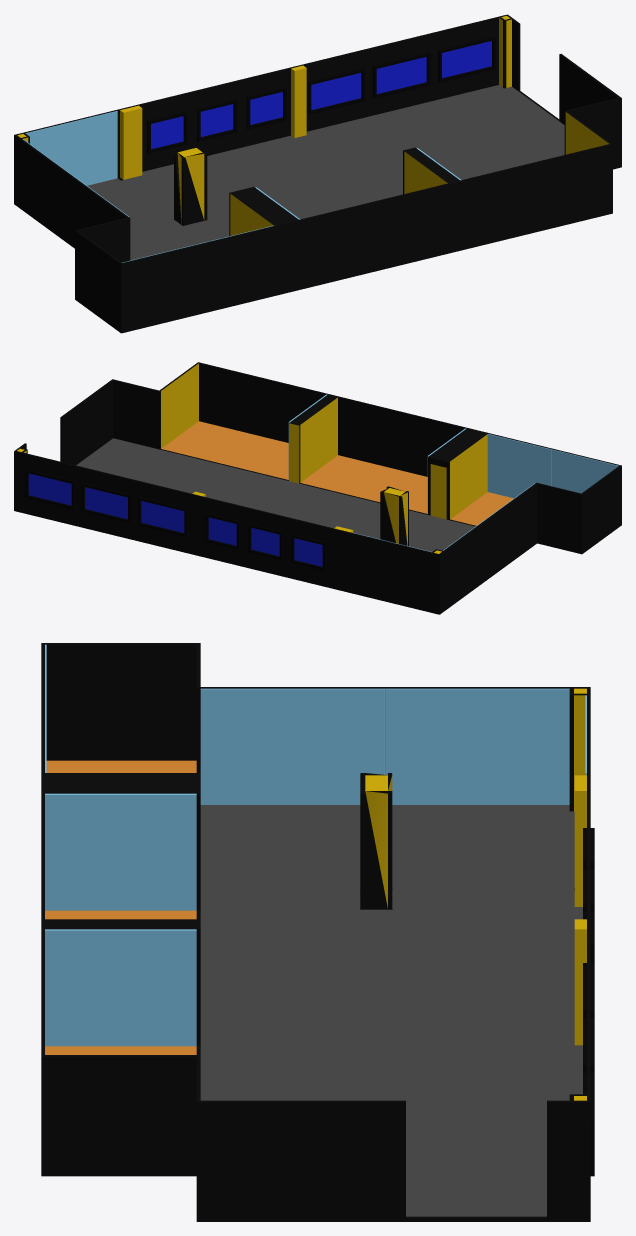
File: Gym.fbx
3 renders of one model, top to bottom at view 1: azimuth 30°, elevation 25°; view 2: azimuth 150°, elevation 25°; view 3: azimuth 270°, elevation 25°, orthographic. The views are drawn at different scales.
Visible parts, largest first — view 1: Box001; view 2: Box001; view 3: Box001.
Part boxes in pixels (x1=…): Box001: x1=14, y1=14, x2=621, y2=333; Box001: x1=14, y1=362, x2=621, y2=614; Box001: x1=41, y1=643, x2=594, y2=1221.
Size of the model in its own units: 2756 by 334 by 1404.
